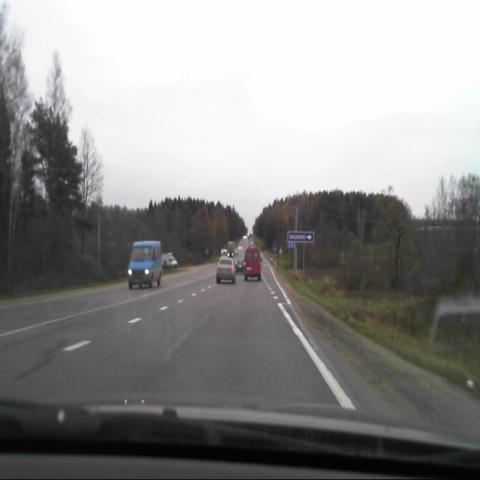5_15_1: (286, 237, 294, 248)
